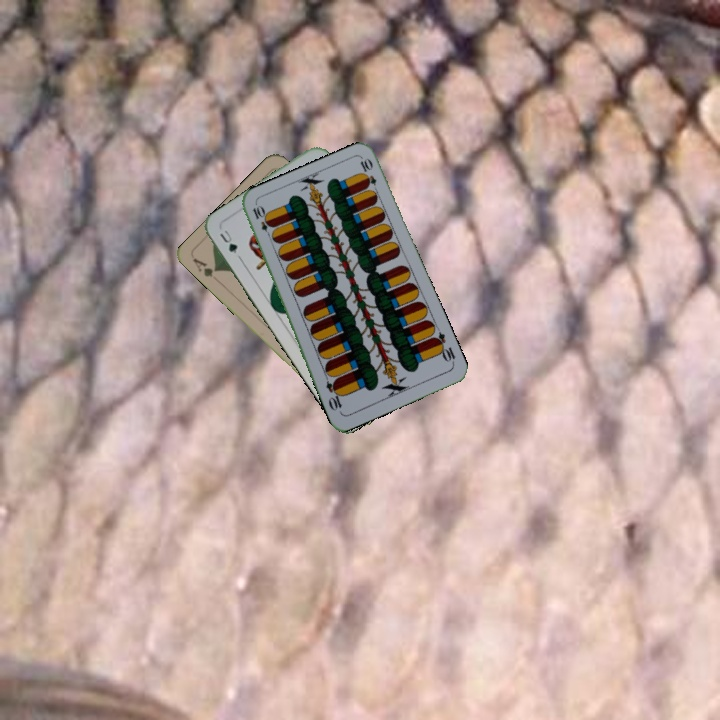E10: (429, 328, 458, 367), (249, 202, 275, 241)
GA: (188, 253, 221, 280)
GU: (215, 226, 240, 256)
